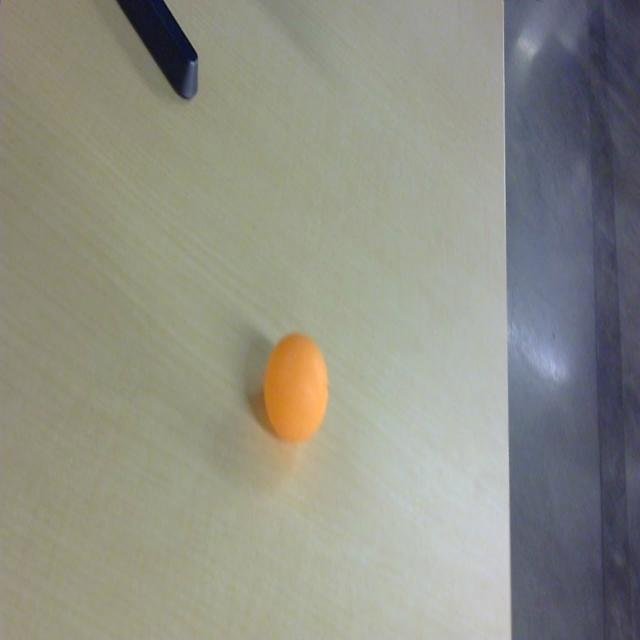ball: (264, 331, 329, 444)
